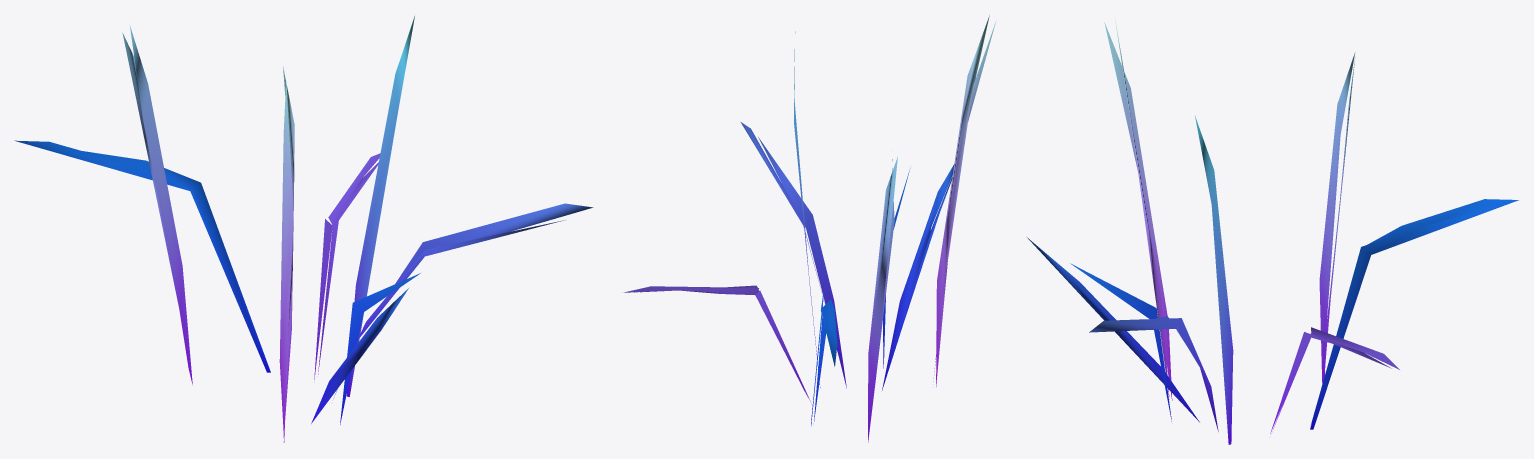
The model's file is q_grass_wild.glb.
The picture shows the model from 3 angles, left to right: view 1: azimuth 30°, elevation 25°; view 2: azimuth 150°, elevation 25°; view 3: azimuth 270°, elevation 25°; orthographic projection. The views are drawn at different scales.
Parts seen in each view (by area): view 1: Grass; view 2: Grass; view 3: Grass.
Boxes of the visible parts, x1,y1,x2,y2 form: Grass: (14, 16, 593, 442); Grass: (624, 15, 995, 442); Grass: (1027, 19, 1518, 444).
Size of the model in its own units: 0.6538 by 0.75 by 0.8932.
